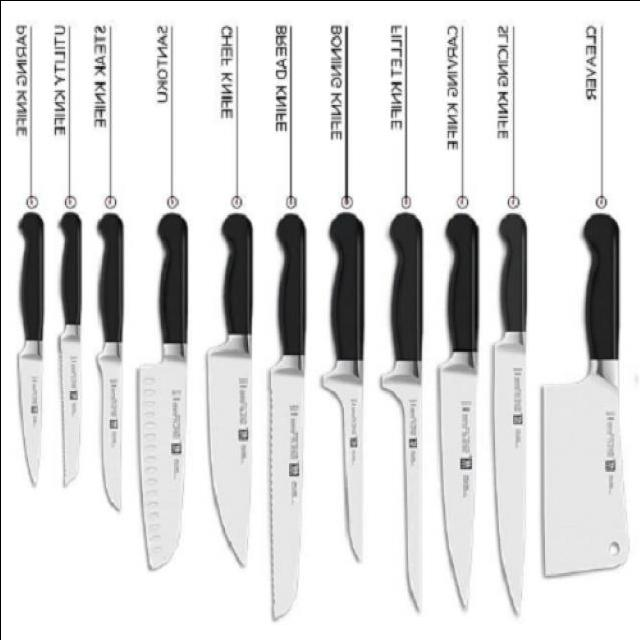cleaver: (540, 214, 632, 592)
knife: (204, 215, 256, 595), (137, 206, 187, 587), (379, 211, 425, 620), (320, 212, 368, 572), (267, 212, 308, 630), (436, 214, 476, 623), (487, 216, 526, 618), (92, 205, 129, 522), (14, 213, 47, 497), (56, 211, 83, 494)
